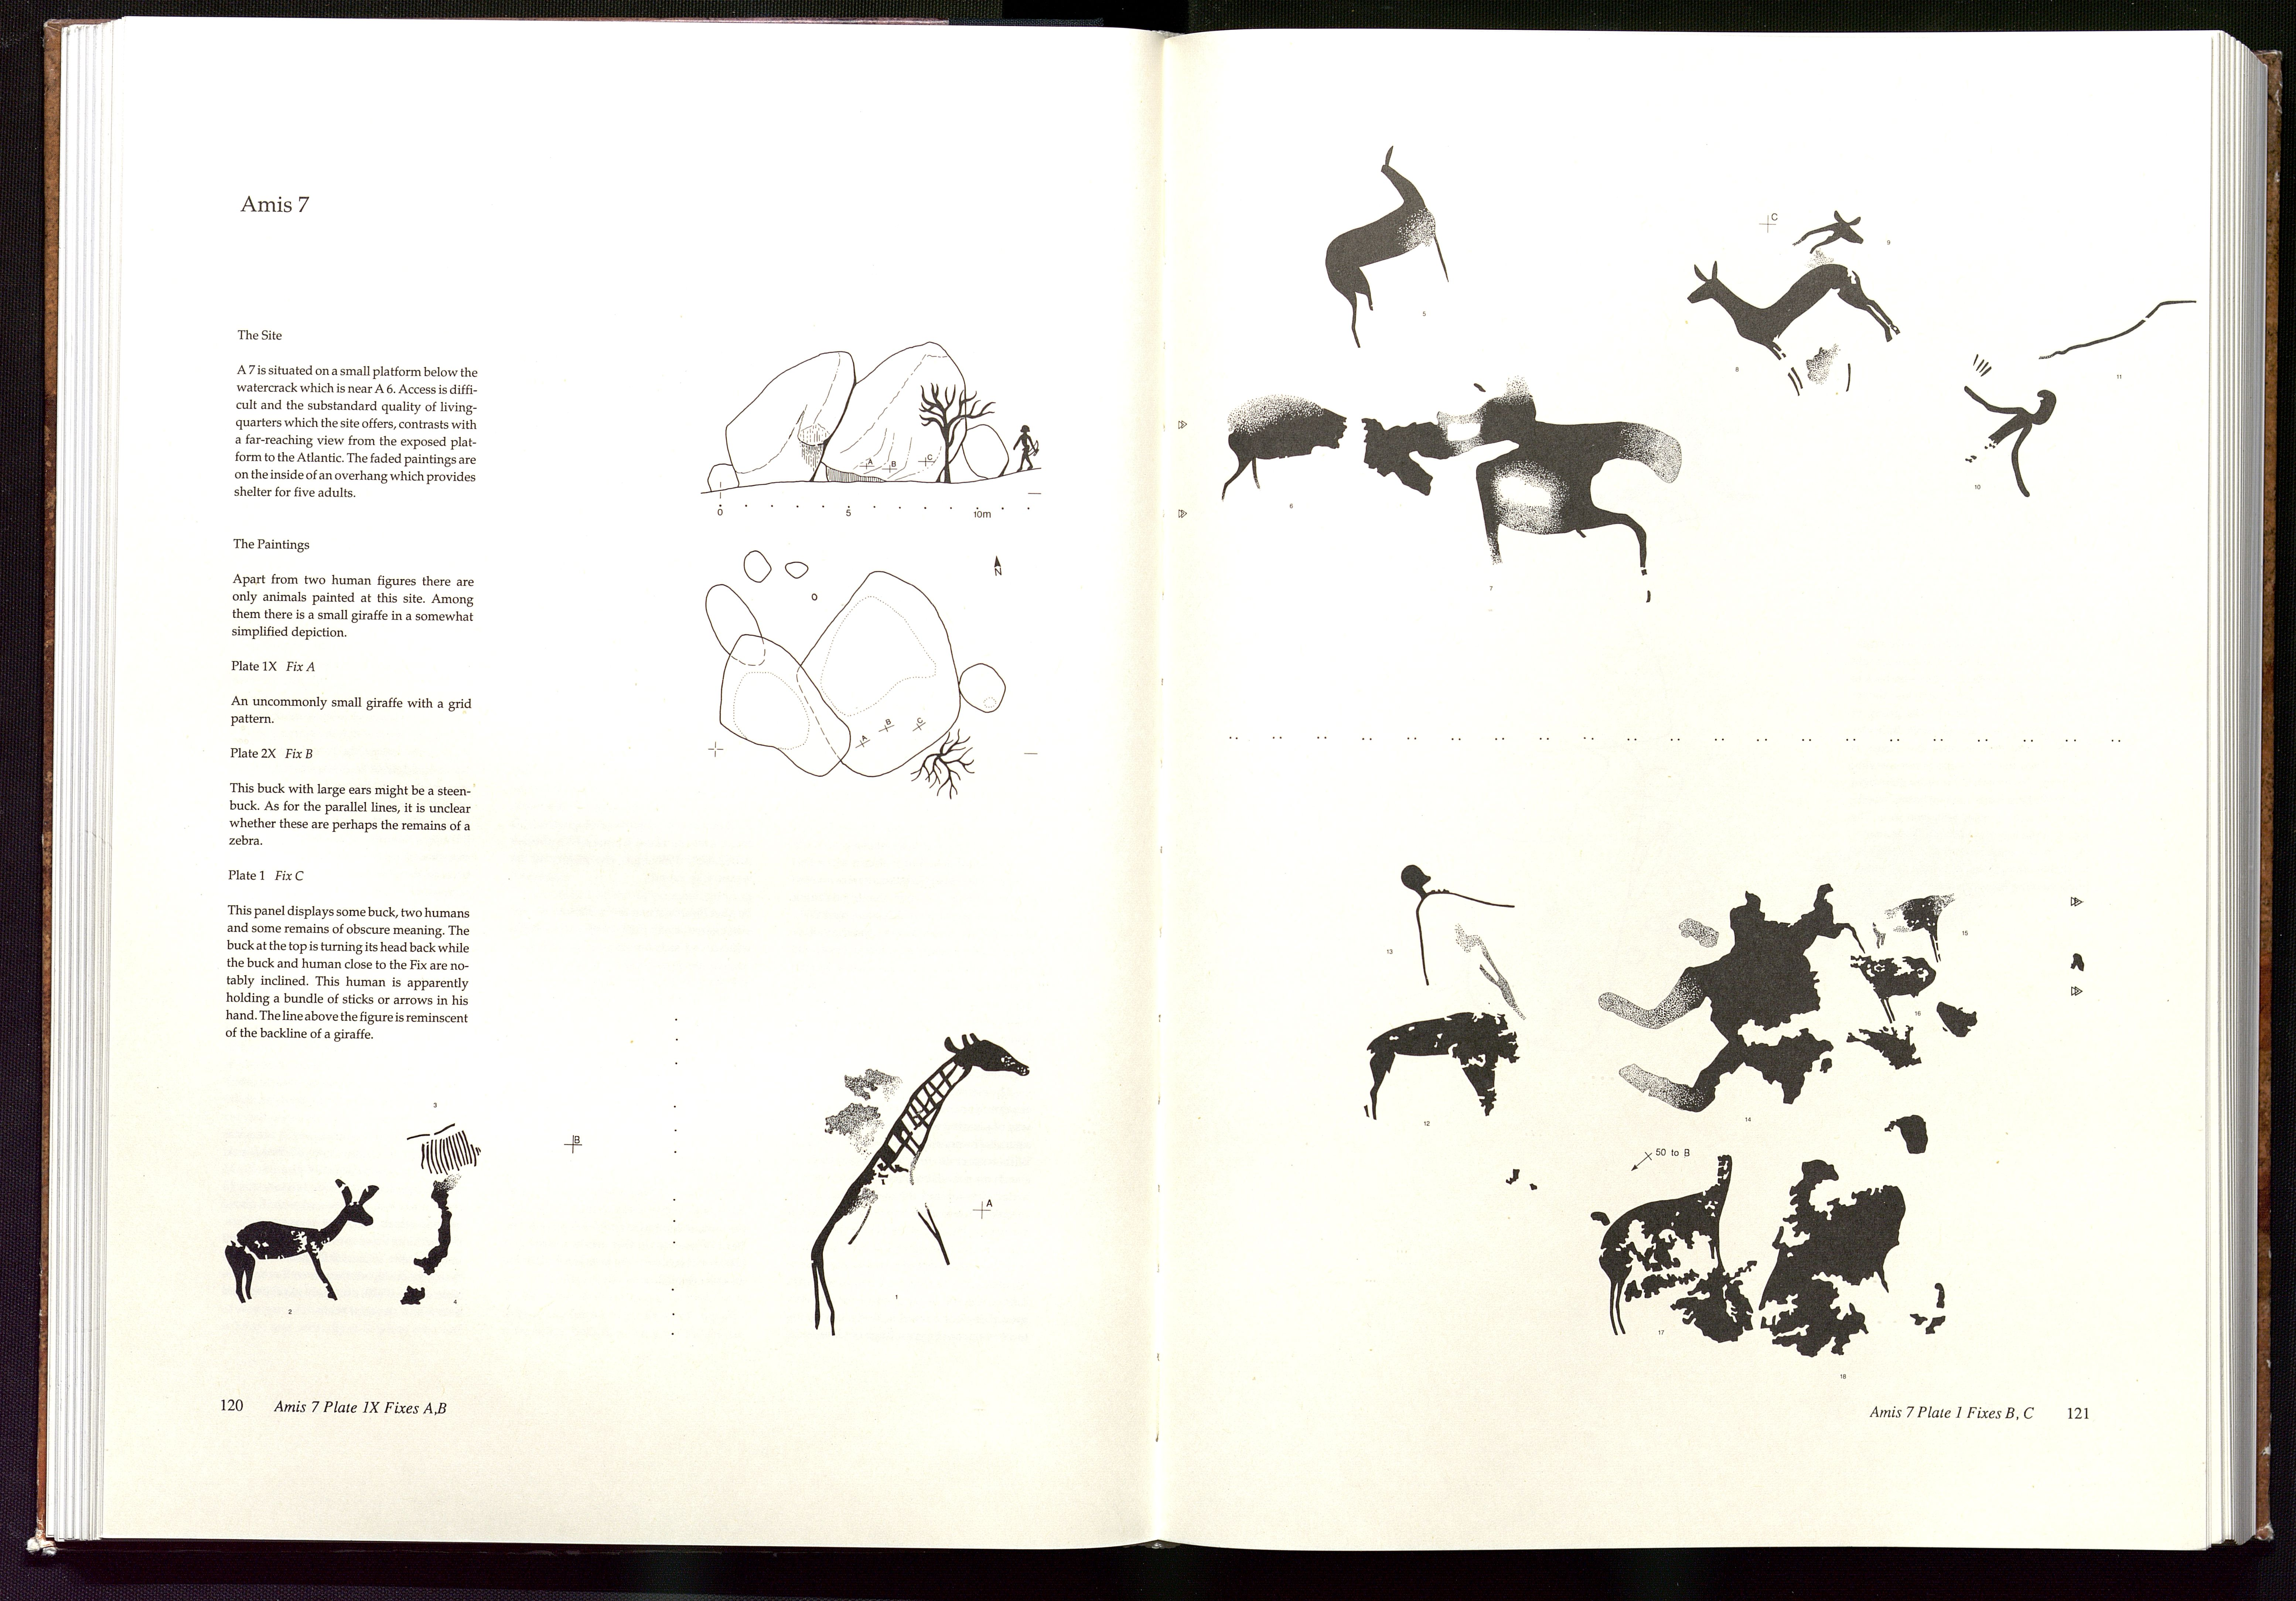animal: (808, 1033, 1032, 1338), (1687, 260, 1901, 397), (1324, 145, 1450, 349), (225, 1178, 380, 1303), (1363, 1012, 1521, 1124), (1790, 210, 1866, 257)
human: (1397, 862, 1530, 1021), (1960, 382, 2061, 500)
